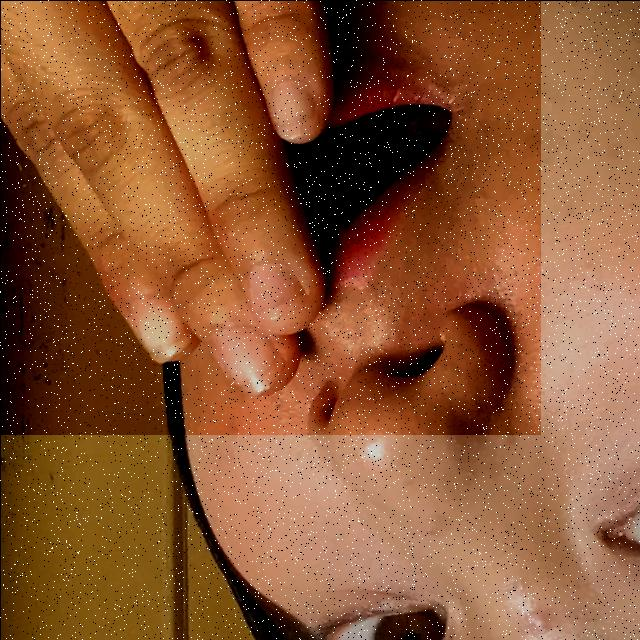ngantuk: (0, 0, 540, 434)
